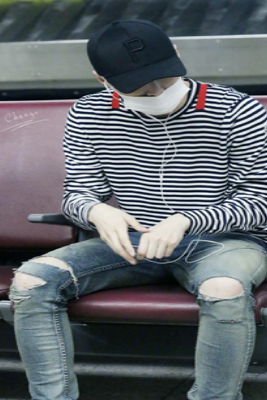mask_weared_incorrect: (111, 77, 192, 117)
